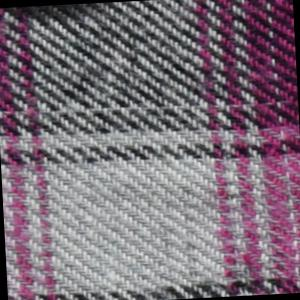Stain: (1, 2, 120, 32)
